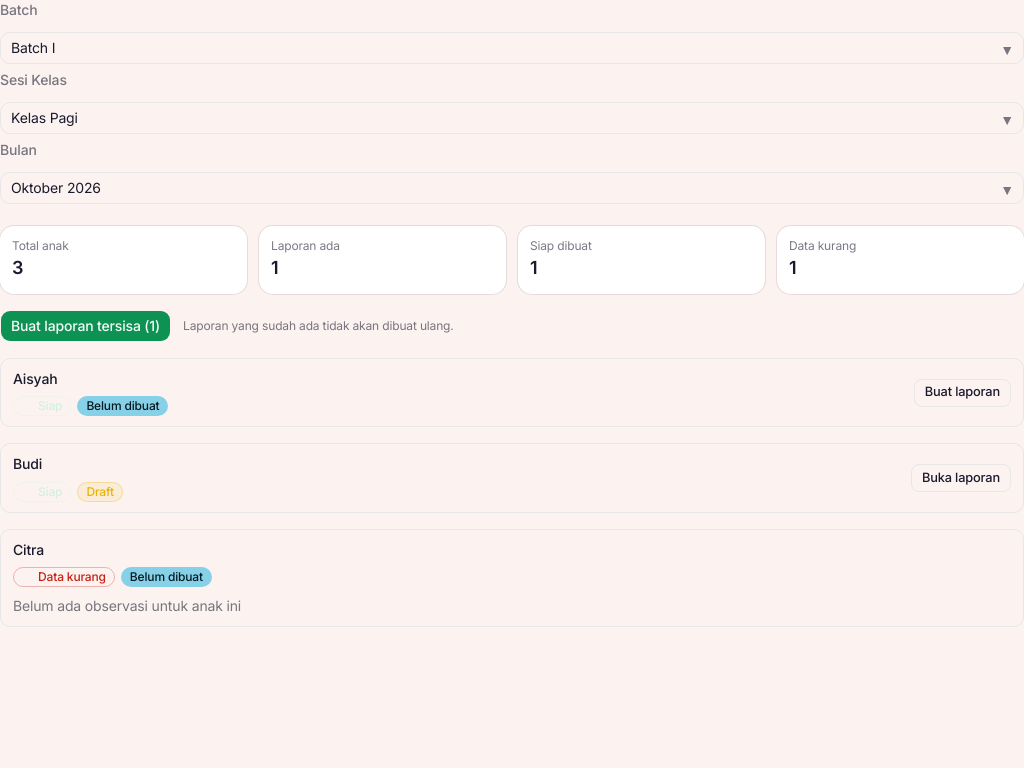
MonthlyReportClient batch generation › generates only the eligible children without reports, one request at a time
This screenshot has width=1024, height=768.
Click the button "Buat laporan tersisa (1)": (86, 326) [0, 310, 171, 342]
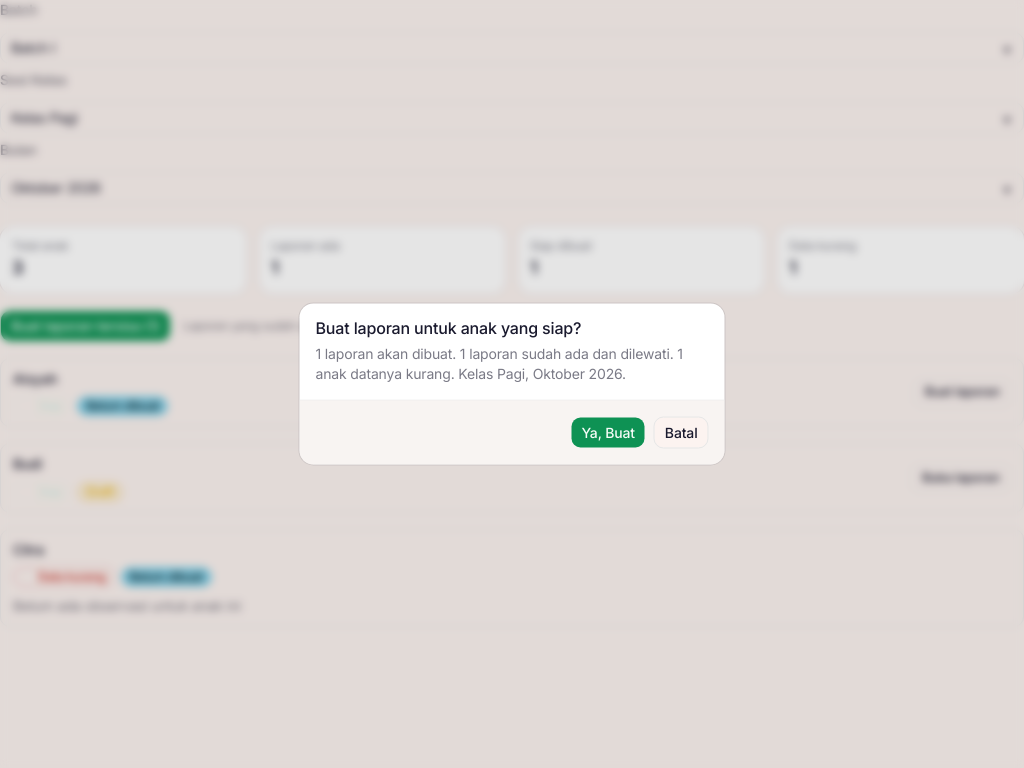
Click the button "Ya, Buat": (608, 432) [570, 416, 646, 448]
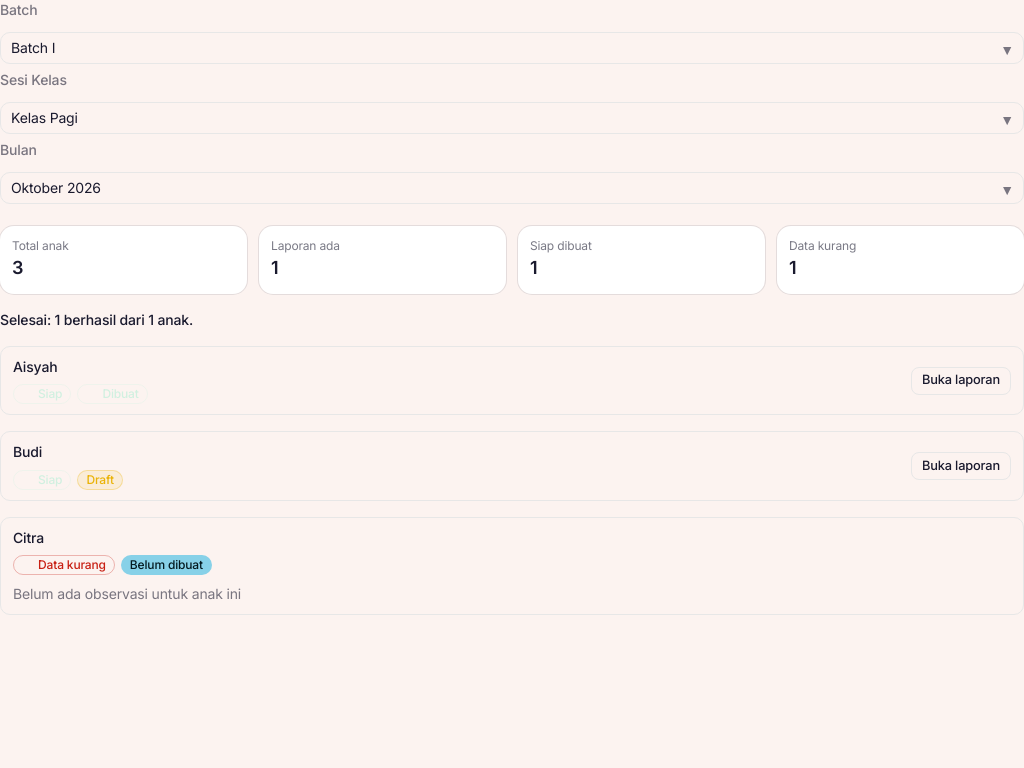
Expected: the text "Selesai: 1 berhasil dari 1 anak." is shown, [0, 311, 193, 328]
